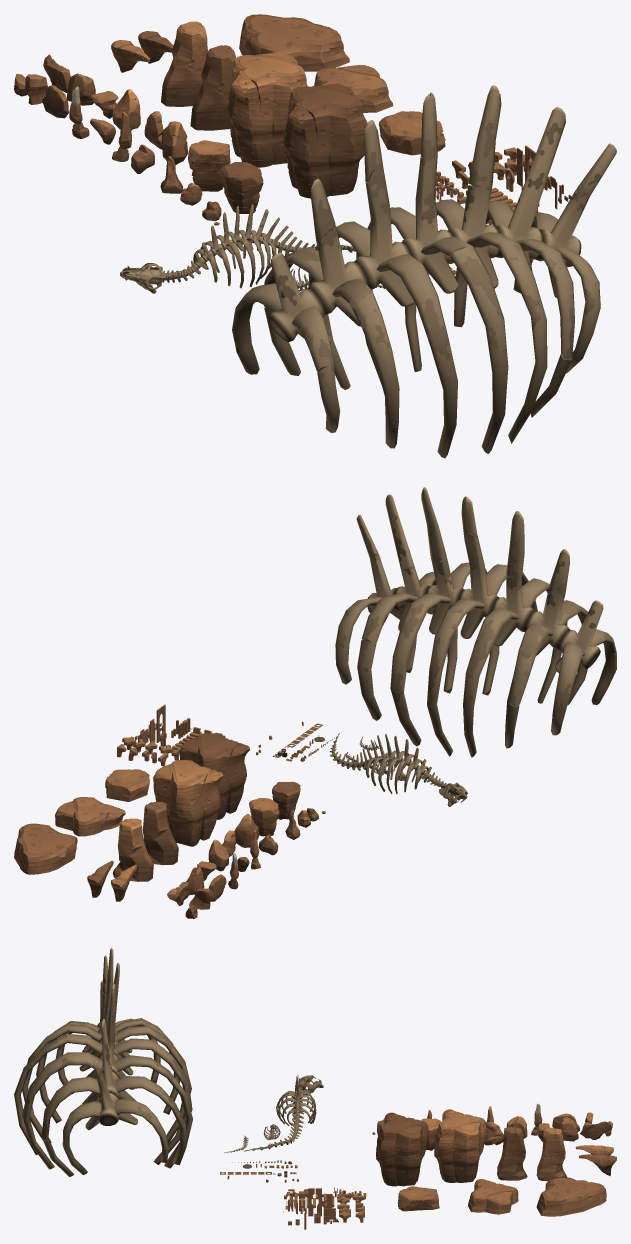
The picture shows the model from 3 angles, top to bottom: view 1: azimuth 30°, elevation 25°; view 2: azimuth 150°, elevation 25°; view 3: azimuth 270°, elevation 25°; orthographic projection. The views are drawn at different scales.
Visible parts, largest first — view 1: TFD_Giant_Skeleton_Ribcage_01A_LOD0_1, TFD_Canyon_Cliff_01B_LOD0, TFD_Canyon_Cliff_01A_LOD0, TFD_Rock_Slab_02A_LOD0, TFD_Giant_Skeleton_Ribcage_01A_LOD0, TFD_Canyon_Cliff_03A_LOD0, TFD_Canyon_Cliff_03B_LOD0, TFD_Rock_Slab_01A_LOD0, TFD_Rock_Slab_03A_LOD0, TFD_Rock_Large_15A_LOD0, TFD_Rock_Large_15B_LOD0, TFD_Rock_Large_02A_LOD0 (+7 smaller); view 2: TFD_Giant_Skeleton_Ribcage_01A_LOD0_1, TFD_Canyon_Cliff_01A_LOD0, TFD_Canyon_Cliff_01B_LOD0, TFD_Rock_Slab_02A_LOD0, TFD_Rock_Slab_01A_LOD0, TFD_Giant_Skeleton_Ribcage_01A_LOD0, TFD_Canyon_Cliff_03A_LOD0, TFD_Canyon_Cliff_03B_LOD0, TFD_Rock_Slab_03A_LOD0, TFD_Rock_Large_15A_LOD0, TFD_Rock_Large_15B_LOD0; view 3: TFD_Giant_Skeleton_Ribcage_01A_LOD0_1, TFD_Canyon_Cliff_01A_LOD0, TFD_Canyon_Cliff_01B_LOD0, TFD_Rock_Slab_02A_LOD0, TFD_Rock_Slab_01A_LOD0, TFD_Canyon_Cliff_03B_LOD0, TFD_Canyon_Cliff_03A_LOD0, TFD_Giant_Skeleton_Ribcage_01A_LOD0, TFD_Rock_Slab_03A_LOD0, TFD_Giant_Skeleton_Tail_01A_LOD0, TFD_Canyon_Cliff_02B_LOD0, TFD_Rock_Large_11A_LOD0.
Part boxes in pixels (x1=…): TFD_Giant_Skeleton_Ribcage_01A_LOD0_1: x1=232, y1=85, x2=616, y2=458; TFD_Canyon_Cliff_01B_LOD0: x1=283, y1=83, x2=367, y2=198; TFD_Canyon_Cliff_01A_LOD0: x1=226, y1=52, x2=307, y2=167; TFD_Rock_Slab_02A_LOD0: x1=239, y1=14, x2=349, y2=71; TFD_Giant_Skeleton_Ribcage_01A_LOD0: x1=193, y1=204, x2=279, y2=288; TFD_Canyon_Cliff_03A_LOD0: x1=161, y1=21, x2=207, y2=106; TFD_Canyon_Cliff_03B_LOD0: x1=190, y1=45, x2=235, y2=130; TFD_Rock_Slab_01A_LOD0: x1=314, y1=65, x2=393, y2=112; TFD_Rock_Slab_03A_LOD0: x1=378, y1=111, x2=445, y2=155; TFD_Rock_Large_15A_LOD0: x1=188, y1=140, x2=230, y2=191; TFD_Rock_Large_15B_LOD0: x1=220, y1=162, x2=263, y2=213; TFD_Rock_Large_02A_LOD0: x1=161, y1=121, x2=188, y2=164; TFD_Giant_Skeleton_Ribcage_01A_LOD0_1: x1=335, y1=487, x2=616, y2=757; TFD_Canyon_Cliff_01A_LOD0: x1=153, y1=760, x2=223, y2=846; TFD_Canyon_Cliff_01B_LOD0: x1=179, y1=733, x2=249, y2=819; TFD_Rock_Slab_02A_LOD0: x1=14, y1=823, x2=77, y2=874; TFD_Rock_Slab_01A_LOD0: x1=55, y1=797, x2=125, y2=836; TFD_Giant_Skeleton_Ribcage_01A_LOD0: x1=366, y1=734, x2=428, y2=794; TFD_Canyon_Cliff_03A_LOD0: x1=113, y1=818, x2=153, y2=881; TFD_Canyon_Cliff_03B_LOD0: x1=142, y1=802, x2=178, y2=864; TFD_Rock_Slab_03A_LOD0: x1=105, y1=769, x2=149, y2=801; TFD_Rock_Large_15A_LOD0: x1=249, y1=798, x2=279, y2=836; TFD_Rock_Large_15B_LOD0: x1=272, y1=781, x2=300, y2=819; TFD_Giant_Skeleton_Ribcage_01A_LOD0_1: x1=14, y1=947, x2=192, y2=1176; TFD_Canyon_Cliff_01A_LOD0: x1=434, y1=1109, x2=486, y2=1182; TFD_Canyon_Cliff_01B_LOD0: x1=376, y1=1112, x2=428, y2=1186; TFD_Rock_Slab_02A_LOD0: x1=536, y1=1177, x2=606, y2=1216; TFD_Rock_Slab_01A_LOD0: x1=468, y1=1179, x2=518, y2=1214; TFD_Canyon_Cliff_03B_LOD0: x1=497, y1=1127, x2=527, y2=1180; TFD_Canyon_Cliff_03A_LOD0: x1=536, y1=1127, x2=567, y2=1181; TFD_Giant_Skeleton_Ribcage_01A_LOD0: x1=276, y1=1074, x2=316, y2=1125; TFD_Rock_Slab_03A_LOD0: x1=397, y1=1186, x2=439, y2=1211; TFD_Giant_Skeleton_Tail_01A_LOD0: x1=243, y1=1108, x2=303, y2=1151; TFD_Canyon_Cliff_02B_LOD0: x1=579, y1=1154, x2=616, y2=1176; TFD_Rock_Large_11A_LOD0: x1=580, y1=1121, x2=612, y2=1139.
Size of what is drawn, in the model's own units: 217 by 149 by 395.
1 material, 1 textured.
